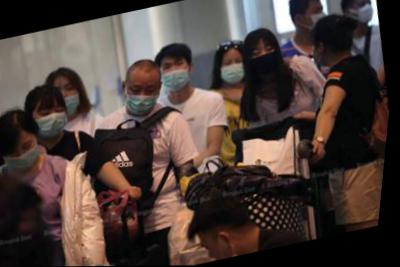OK: (32, 99, 76, 142), (125, 77, 167, 118), (3, 136, 46, 173), (160, 55, 197, 94), (247, 42, 285, 79), (220, 55, 251, 87), (304, 2, 332, 34), (352, 1, 377, 25)
WRONG: (46, 79, 88, 120)
